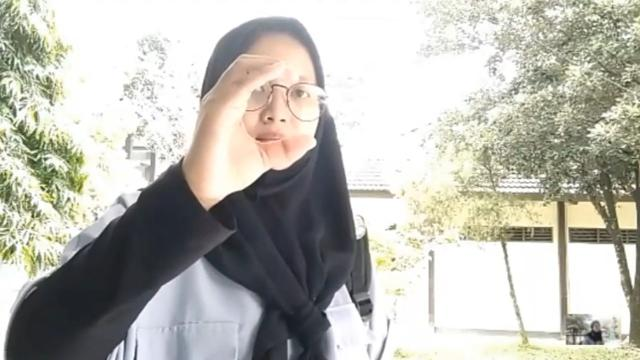C: (186, 53, 320, 197)
